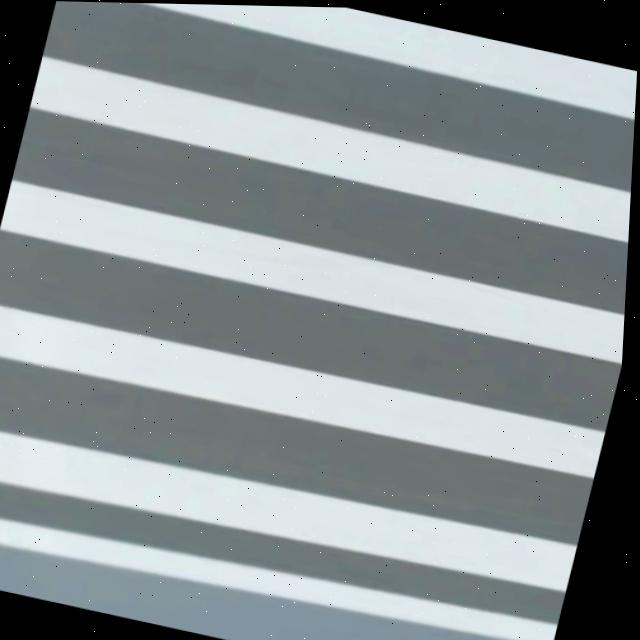left: (0, 519, 558, 640)
